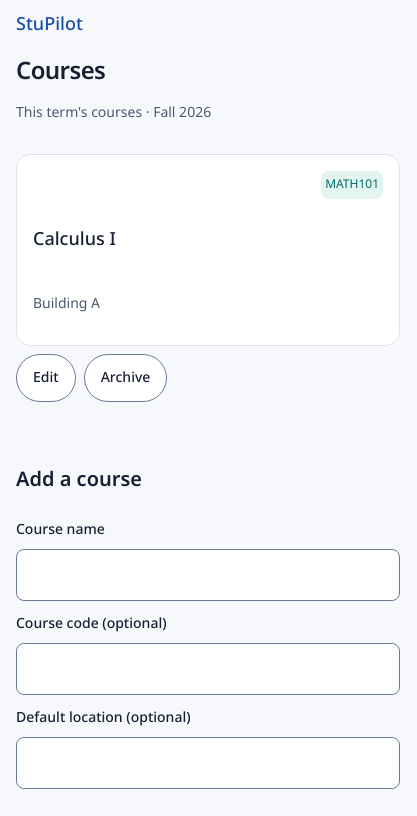
Test: course views › requires a second click to confirm archiving a course
What coordinates should you click on to do the following:
click the button "Archive"
I would click on:
 (126, 378)
Its box is left=84, top=354, right=167, bottom=402.
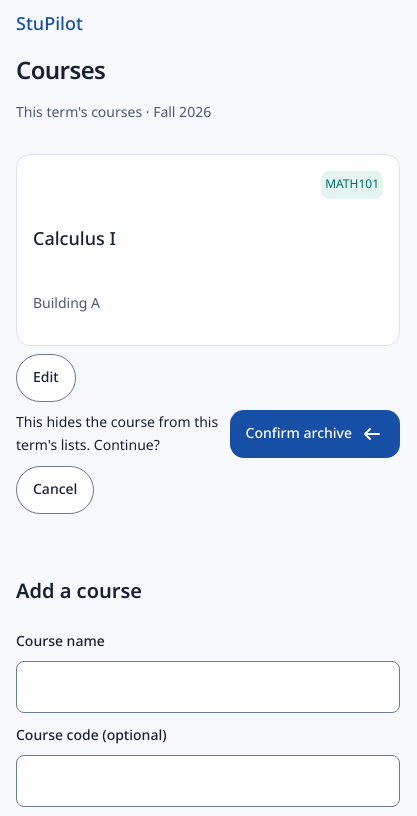
Result: the text "This hides the course from this term's lists. Continue?" is shown at left=16, top=411, right=222, bottom=457
Result: the button "Confirm archive" is shown at left=230, top=410, right=400, bottom=458
